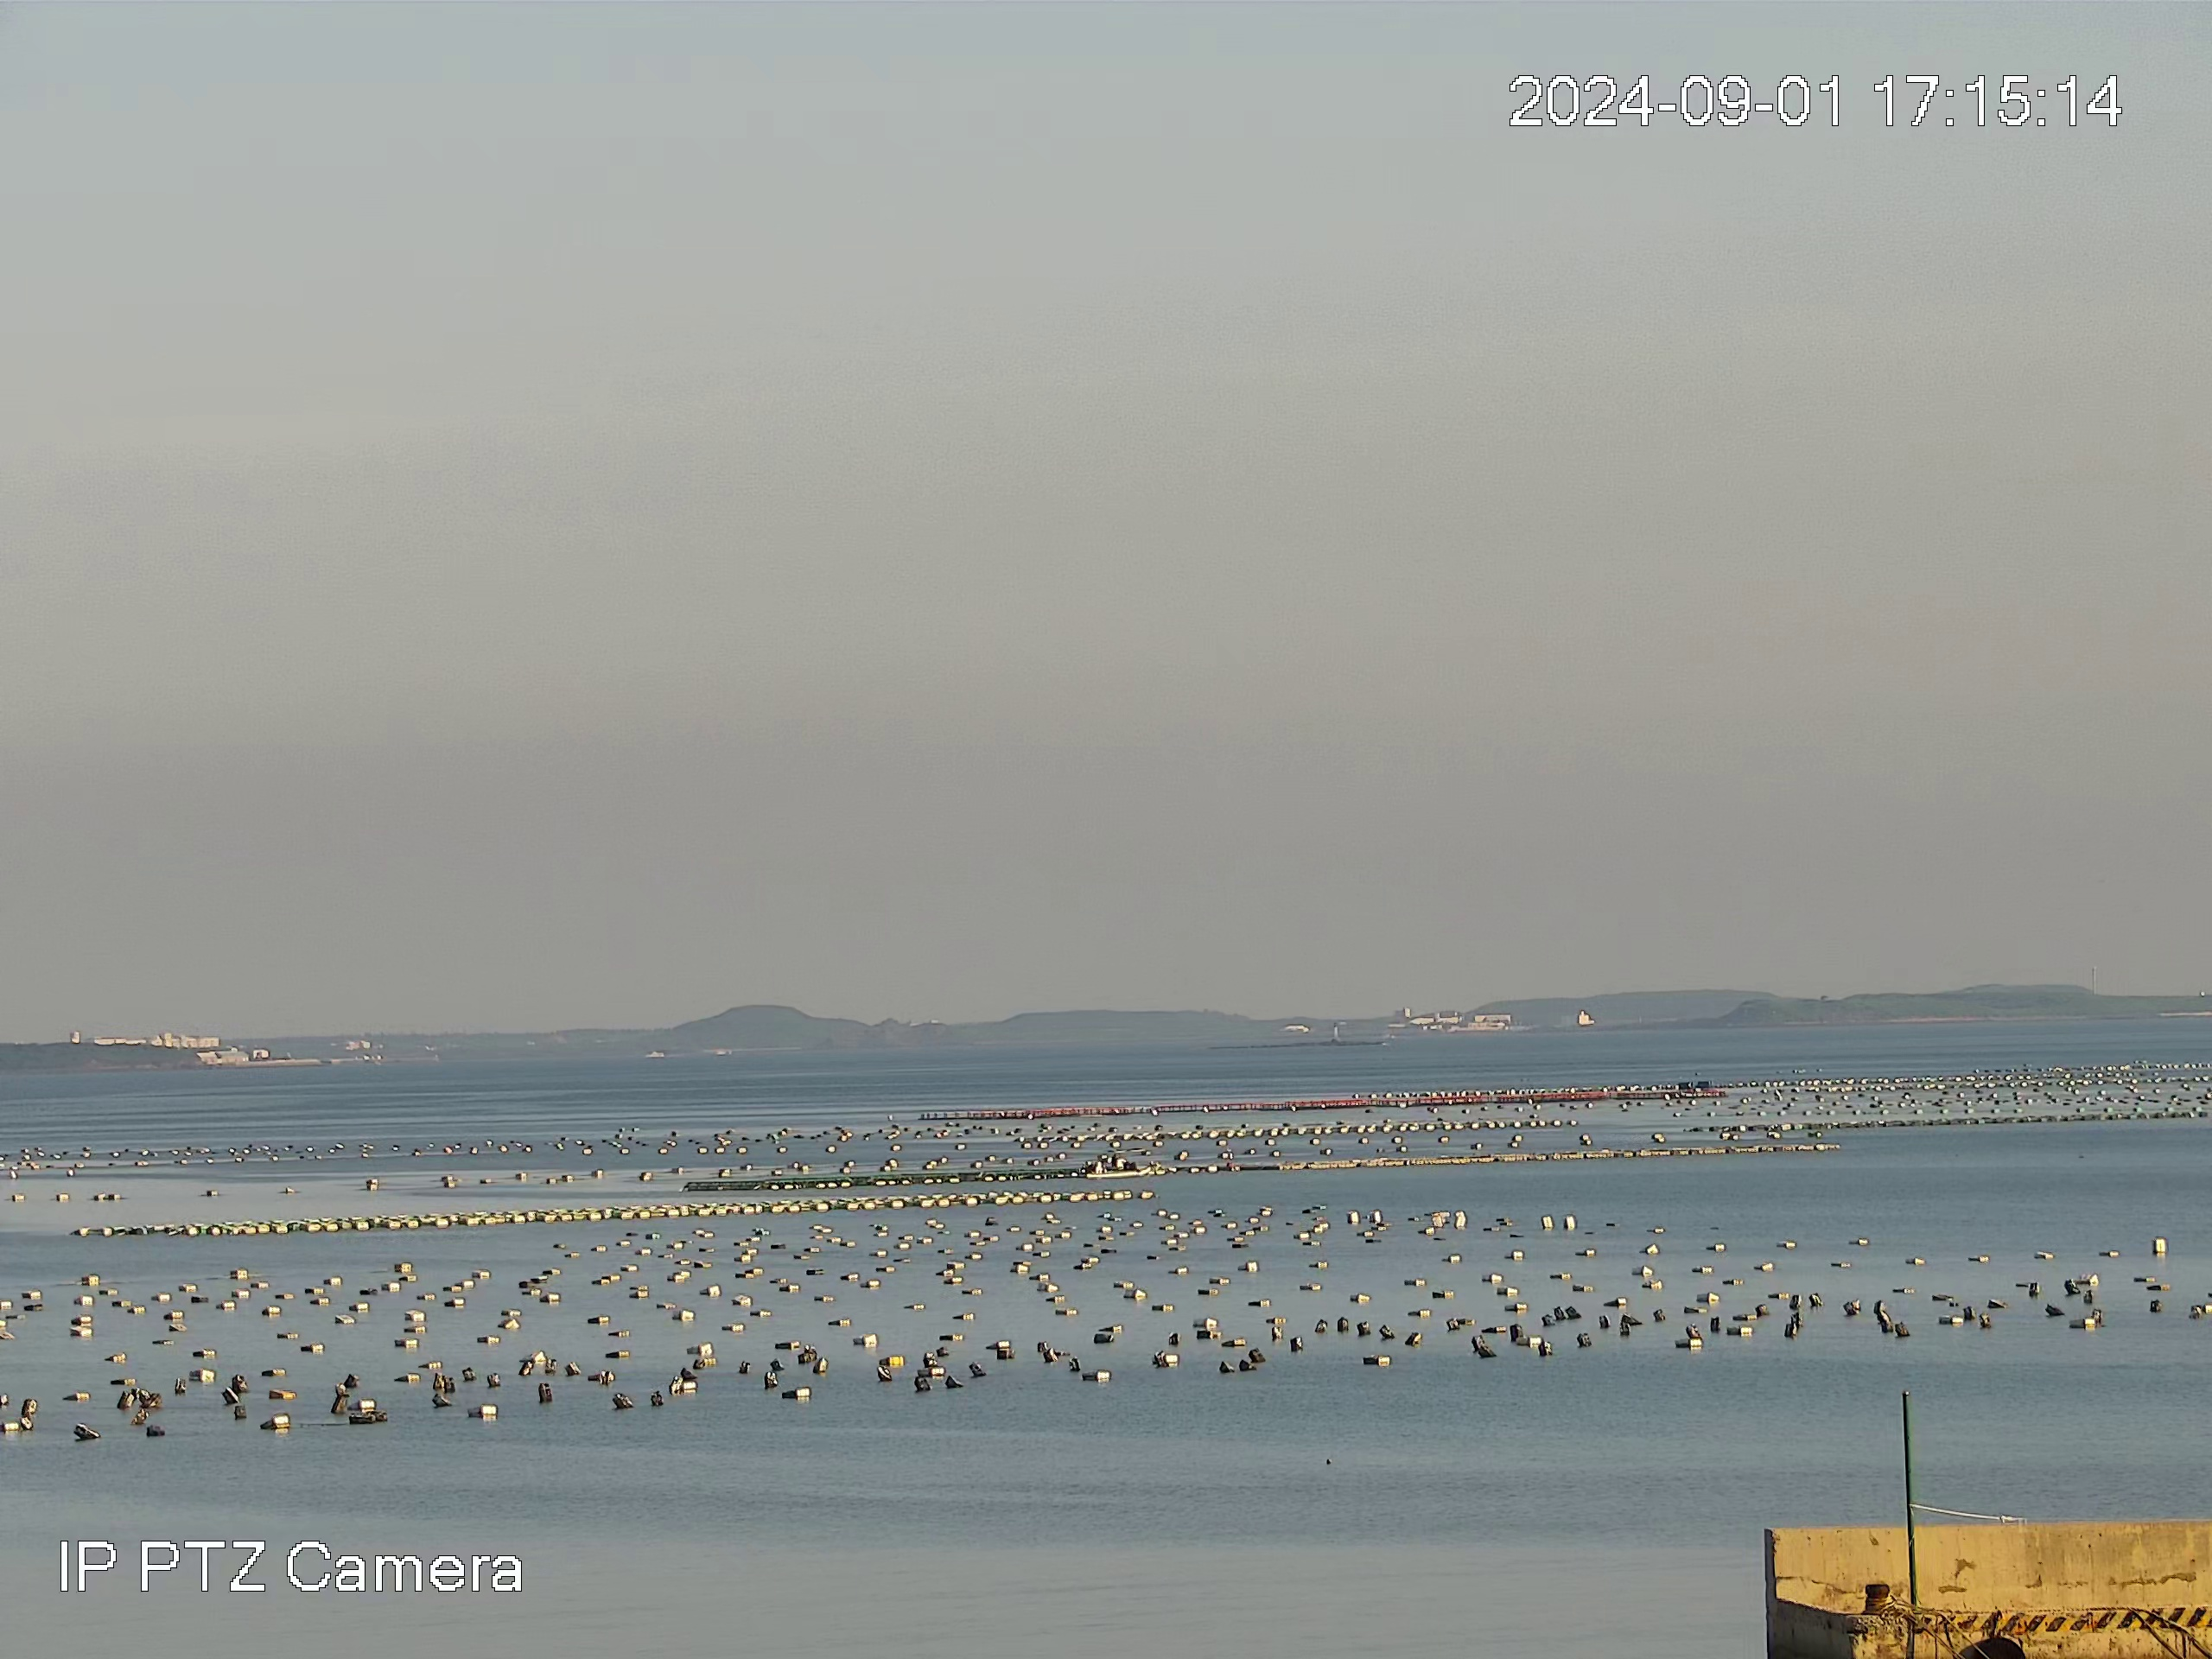boat: (1090, 1148, 1151, 1178)
